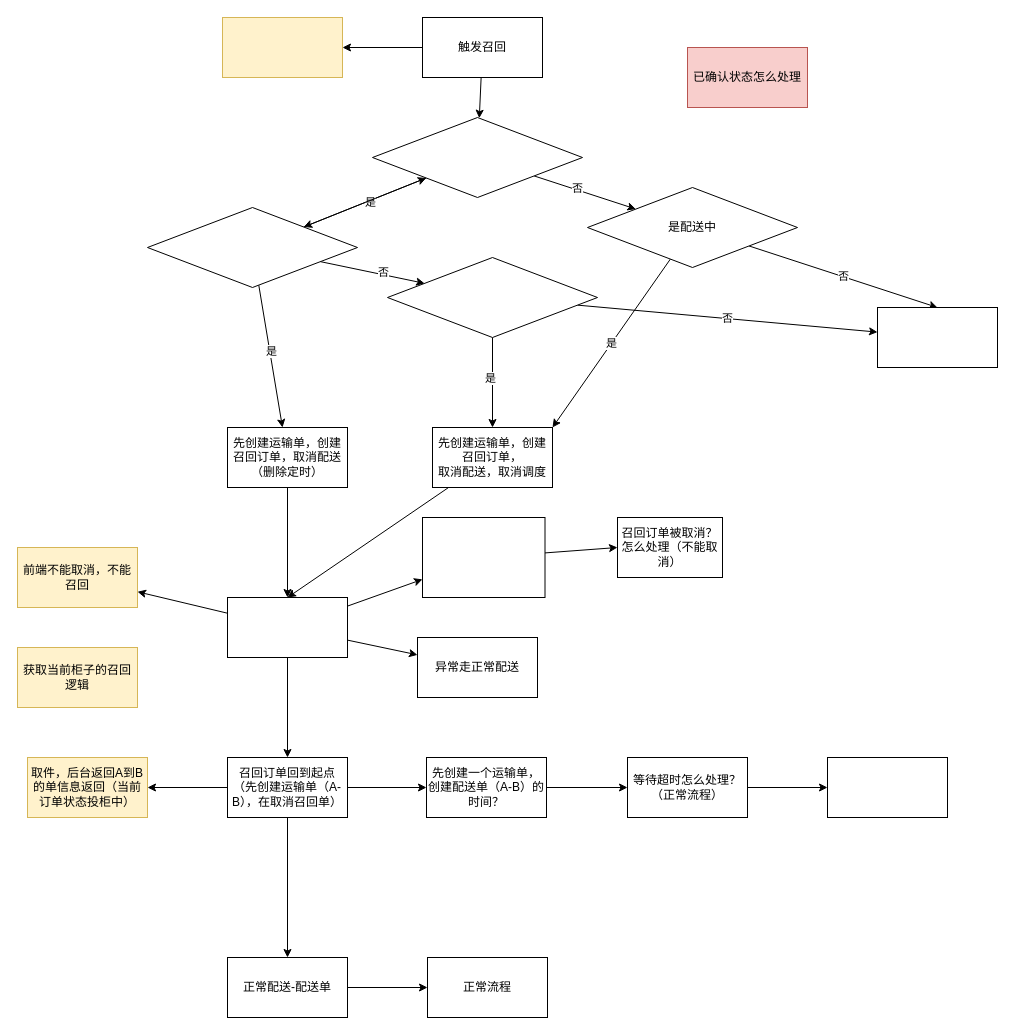
The diagram is 1015 pixels wide and 1035 high, and some of its shapes have lost their labels. Each missing label, with the centre of its shape:
"A-A后B点的能开箱吗？（不存在）" belongs at (x=887, y=787).
"创建召回订单（配送单A-A），设置优先级，订单状态待配送" belongs at (x=287, y=627).
"召回触发接口" belongs at (x=282, y=47).
"是定时配送" belongs at (x=477, y=157).
"是待配送状态" belongs at (x=252, y=247).
"是配送中状态" belongs at (x=492, y=297).
"直接转化为最高优先级，不知道当前柜子是否直接执行，还是先把已收集任务完成" belongs at (x=483, y=557).
"触发召回失败" belongs at (x=937, y=337).
